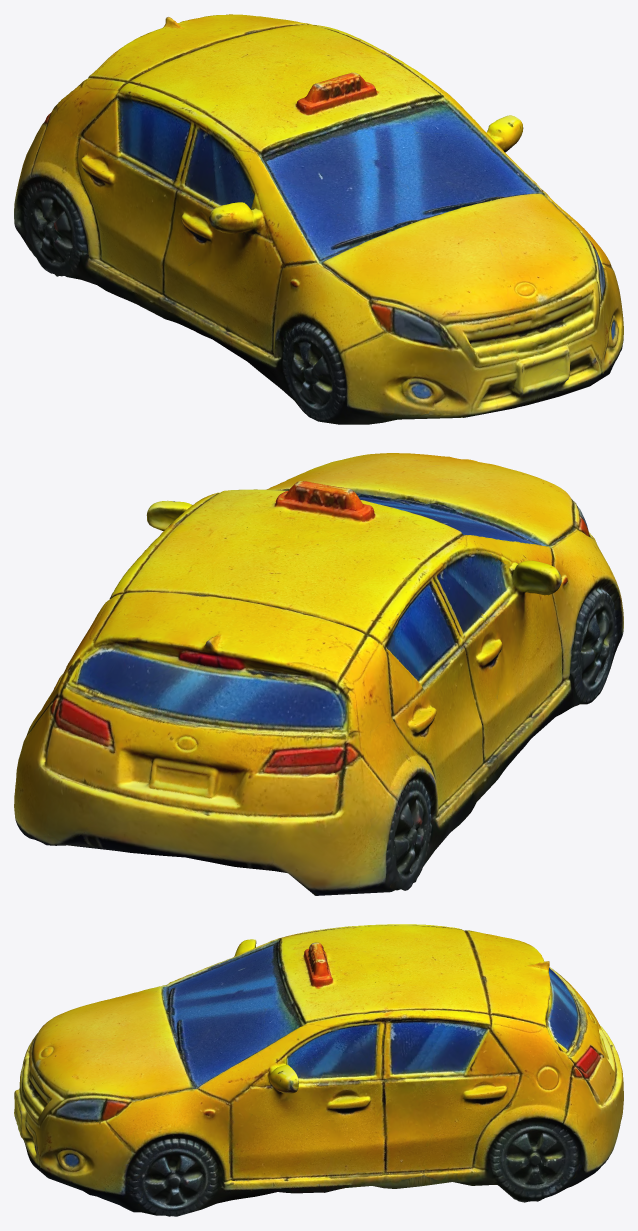
The model's file is taxi-cab.glb.
3 renders of one model, top to bottom at view 1: azimuth 30°, elevation 25°; view 2: azimuth 150°, elevation 25°; view 3: azimuth 270°, elevation 25°, orthographic. The views are drawn at different scales.
Parts seen in each view (by area): view 1: g0; view 2: g0; view 3: g0.
Part boxes in pixels (x1,y1,x2,y2): g0: (14,14,623,424); g0: (14,453,623,895); g0: (14,924,623,1216).
Size of the model in its own units: 3.15 by 1.97 by 5.41.
Materials: 1 (1 with a texture image).
